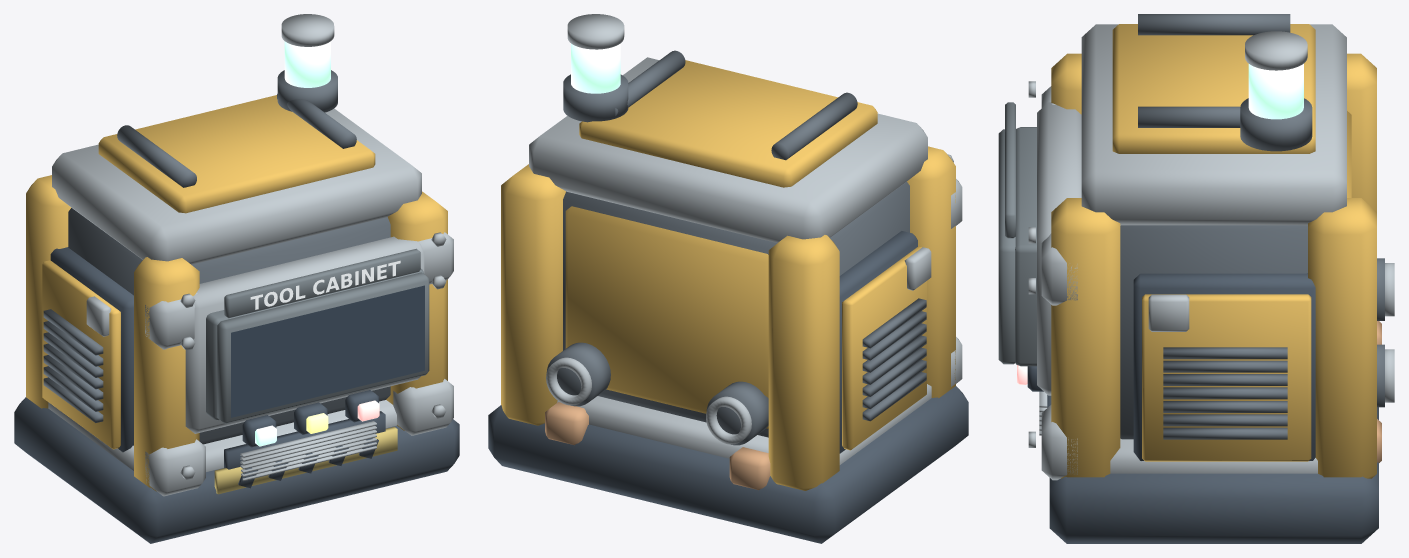
The model's file is tool_cabinet_ultra.glb.
The picture shows the model from 3 angles, left to right: view 1: azimuth 30°, elevation 25°; view 2: azimuth 150°, elevation 25°; view 3: azimuth 270°, elevation 25°; orthographic projection. The views are drawn at different scales.
Visible parts, largest first — view 1: TopCap_steel_legacy_10, Base_black_legacy_0, Frame_orange_legacy_4, RoofPanel_orange_legacy_11, LiveViewSurface_glass, Housing_dark_legacy_2, CornerGuard_steel_legacy_5, DisplayFrame_steel_legacy_13, ServiceDoor_orange_legacy_7, LiveViewSurfaceFrame_frame, Detail_steel_legacy_24, SideVents_dark_legacy_8 (+13 smaller); view 2: Frame_orange_legacy_4, Armor_orange_legacy_3, Base_black_legacy_0, TopCap_steel_legacy_10, RoofPanel_orange_legacy_11, Housing_dark_legacy_2, ServiceDoor_orange_legacy_7, SideVents_dark_legacy_8, Skirt_steel_legacy_1, RearPort_dark_legacy_29, LiftRail_dark_legacy_12, RearPort_copper_legacy_31 (+7 smaller); view 3: Frame_orange_legacy_4, TopCap_steel_legacy_10, Base_black_legacy_0, ServiceDoor_orange_legacy_7, RoofPanel_orange_legacy_11, Housing_dark_legacy_2, SideVents_dark_legacy_8, DisplayFrame_steel_legacy_13, SidePanel_black_legacy_6, LiftRail_dark_legacy_12, ScreenMount_frame, CornerGuard_steel_legacy_5 (+10 smaller).
Boxes of the visible parts, <box> form: TopCap_steel_legacy_10: <box>52,108,421,264</box>; Base_black_legacy_0: <box>14,397,459,543</box>; Frame_orange_legacy_4: <box>26,175,447,491</box>; RoofPanel_orange_legacy_11: <box>98,95,375,213</box>; LiveViewSurface_glass: <box>231,285,424,417</box>; Housing_dark_legacy_2: <box>68,208,390,444</box>; CornerGuard_steel_legacy_5: <box>145,232,453,496</box>; DisplayFrame_steel_legacy_13: <box>185,236,424,433</box>; ServiceDoor_orange_legacy_7: <box>42,260,120,449</box>; LiveViewSurfaceFrame_frame: <box>217,272,429,423</box>; Detail_steel_legacy_24: <box>180,232,446,480</box>; SideVents_dark_legacy_8: <box>43,309,103,422</box>; Frame_orange_legacy_4: <box>501,146,955,490</box>; Armor_orange_legacy_3: <box>565,206,768,428</box>; Base_black_legacy_0: <box>488,386,968,543</box>; TopCap_steel_legacy_10: <box>529,57,927,242</box>; RoofPanel_orange_legacy_11: <box>579,60,877,187</box>; Housing_dark_legacy_2: <box>563,182,909,437</box>; ServiceDoor_orange_legacy_7: <box>842,246,926,450</box>; SideVents_dark_legacy_8: <box>862,298,926,421</box>; Skirt_steel_legacy_1: <box>557,384,931,464</box>; RearPort_dark_legacy_29: <box>546,342,768,445</box>; LiftRail_dark_legacy_12: <box>615,50,857,160</box>; RearPort_copper_legacy_31: <box>545,402,770,490</box>; Frame_orange_legacy_4: <box>1051,53,1376,478</box>; TopCap_steel_legacy_10: <box>1081,24,1346,225</box>; Base_black_legacy_0: <box>1049,407,1378,543</box>; ServiceDoor_orange_legacy_7: <box>1142,294,1311,461</box>; RoofPanel_orange_legacy_11: <box>1112,24,1315,153</box>; Housing_dark_legacy_2: <box>1120,225,1307,439</box>; SideVents_dark_legacy_8: <box>1163,347,1287,439</box>; DisplayFrame_steel_legacy_13: <box>1037,102,1081,395</box>; SidePanel_black_legacy_6: <box>1133,273,1315,460</box>; LiftRail_dark_legacy_12: <box>1138,14,1290,127</box>; ScreenMount_frame: <box>1015,127,1036,366</box>; CornerGuard_steel_legacy_5: <box>1041,86,1077,480</box>.
Bounding box in the file's own units: 1.43 × 1.65 × 1.27.
